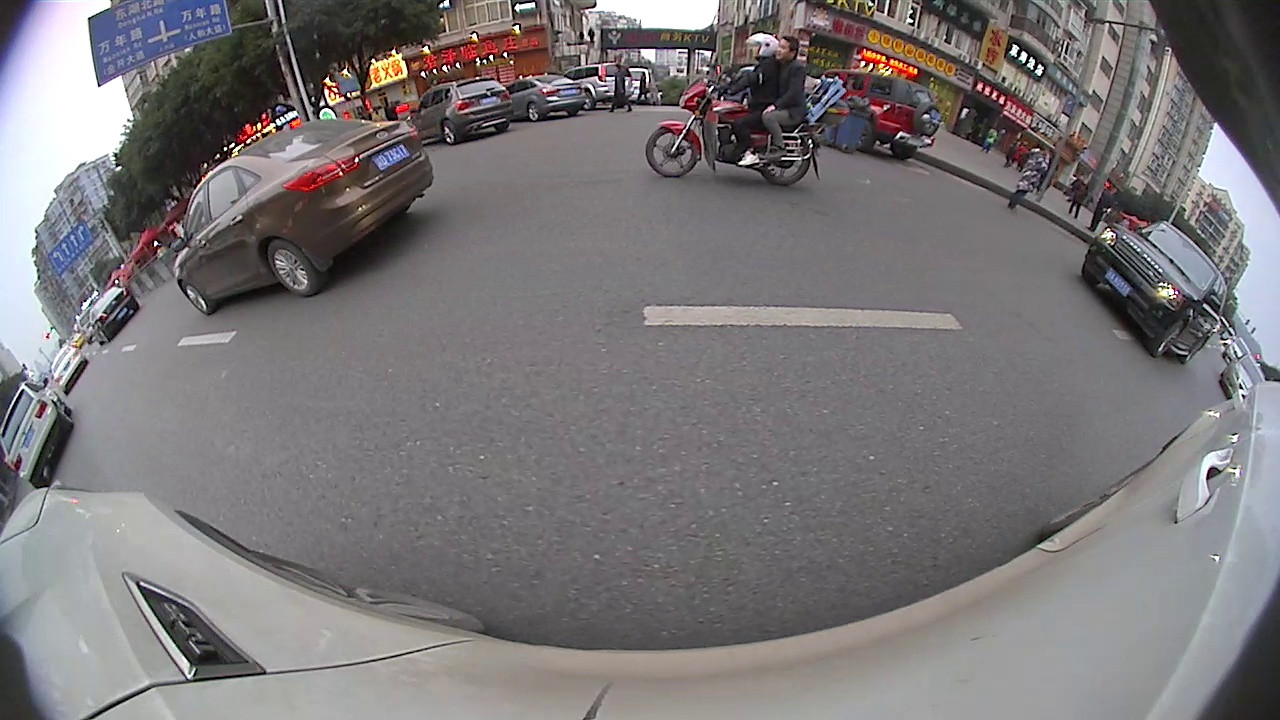car: (166, 113, 436, 317), (1074, 219, 1228, 366), (813, 67, 941, 162), (0, 377, 77, 491), (405, 74, 518, 146), (519, 70, 590, 120), (90, 284, 142, 347), (568, 61, 642, 102), (1216, 350, 1272, 404), (51, 341, 87, 394)
front: (643, 120, 704, 180), (1148, 316, 1188, 363), (180, 277, 216, 316)
rear: (264, 236, 323, 298), (758, 133, 813, 188)
rider: (642, 33, 859, 189)
